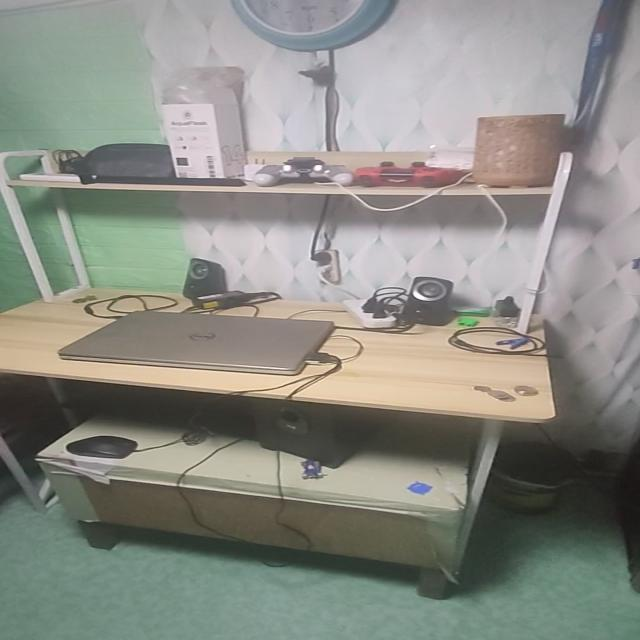table: (0, 285, 578, 596)
